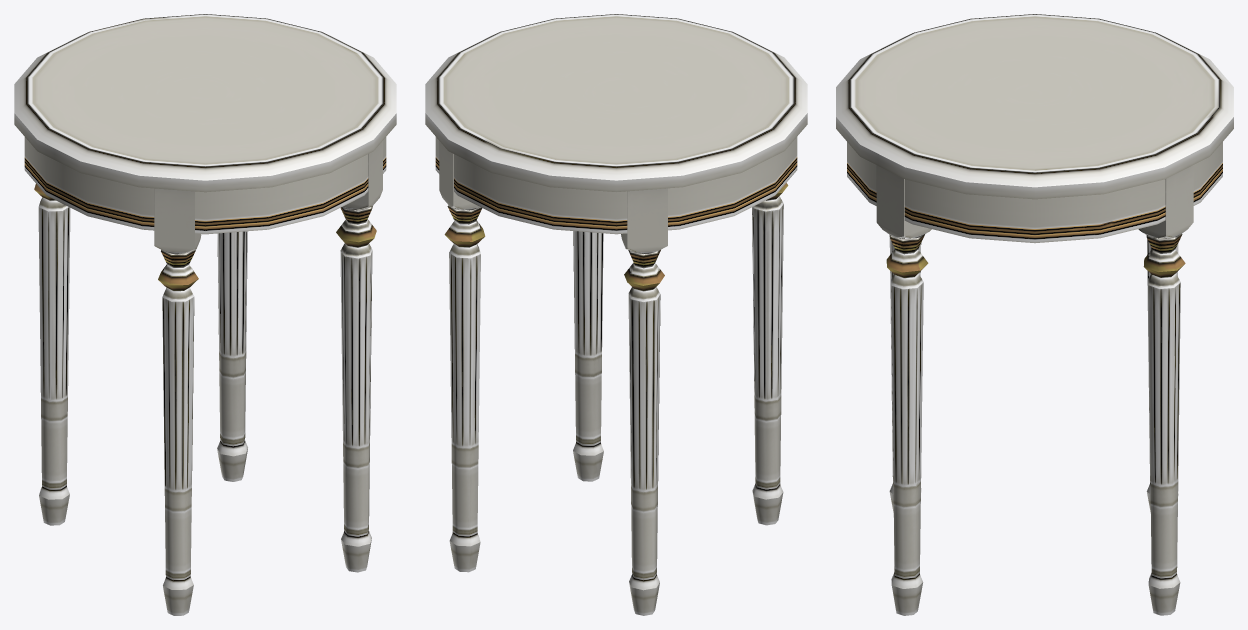
File: Chair05C.FBX
3 views of the same model, side by side, from view 1: azimuth 30°, elevation 25°; view 2: azimuth 150°, elevation 25°; view 3: azimuth 270°, elevation 25° (orthographic). The views are drawn at different scales.
Visible parts, largest first — view 1: Chair05C; view 2: Chair05C; view 3: Chair05C.
Part boxes in pixels (left/top/right/bottom): Chair05C: left=14, top=14, right=396, bottom=615; Chair05C: left=425, top=14, right=807, bottom=615; Chair05C: left=836, top=14, right=1233, bottom=615.
Size of the model in its own units: 79.95 by 78.73 by 103.
